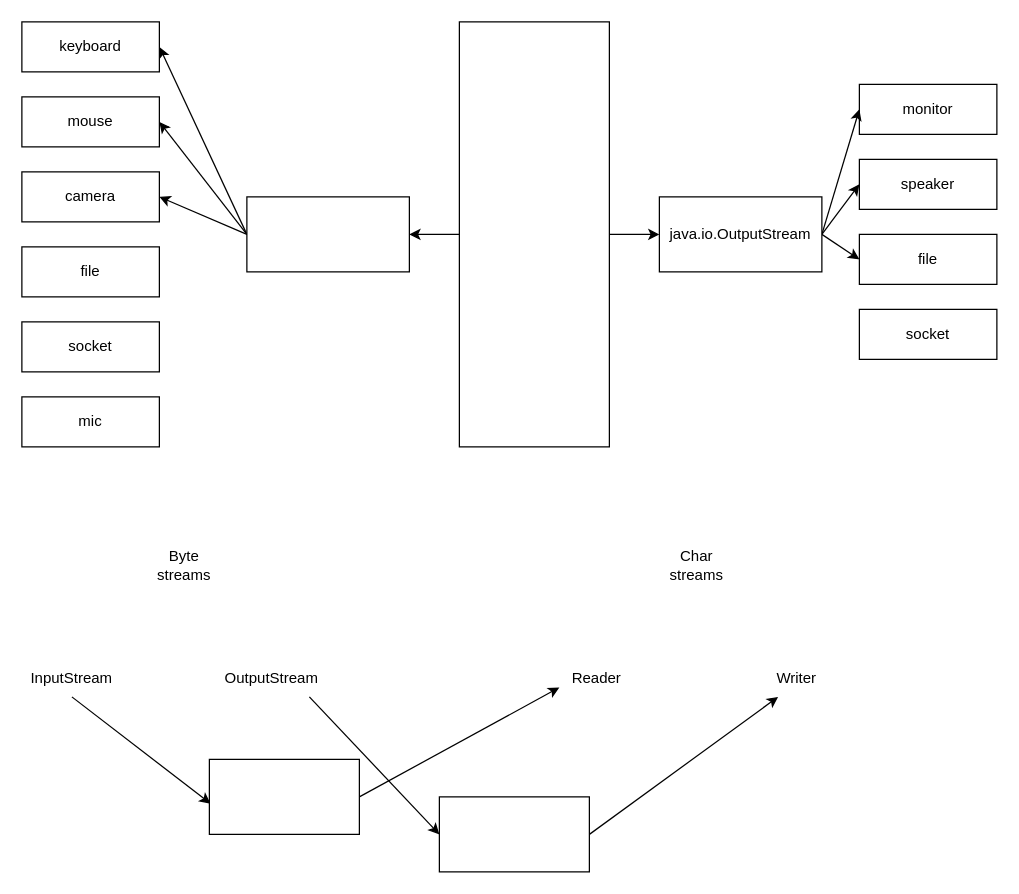
Image size: 1019x894. Some labels were removed from this diagram. The shapes that lost their labels are listed below. From the top down, each one's centre as x and y in pixels, then its label:
point 327,234: java.io.InputStream
point 533,234: java app
point 283,796: InputStreamReader
point 513,834: OutputStreamWriter
